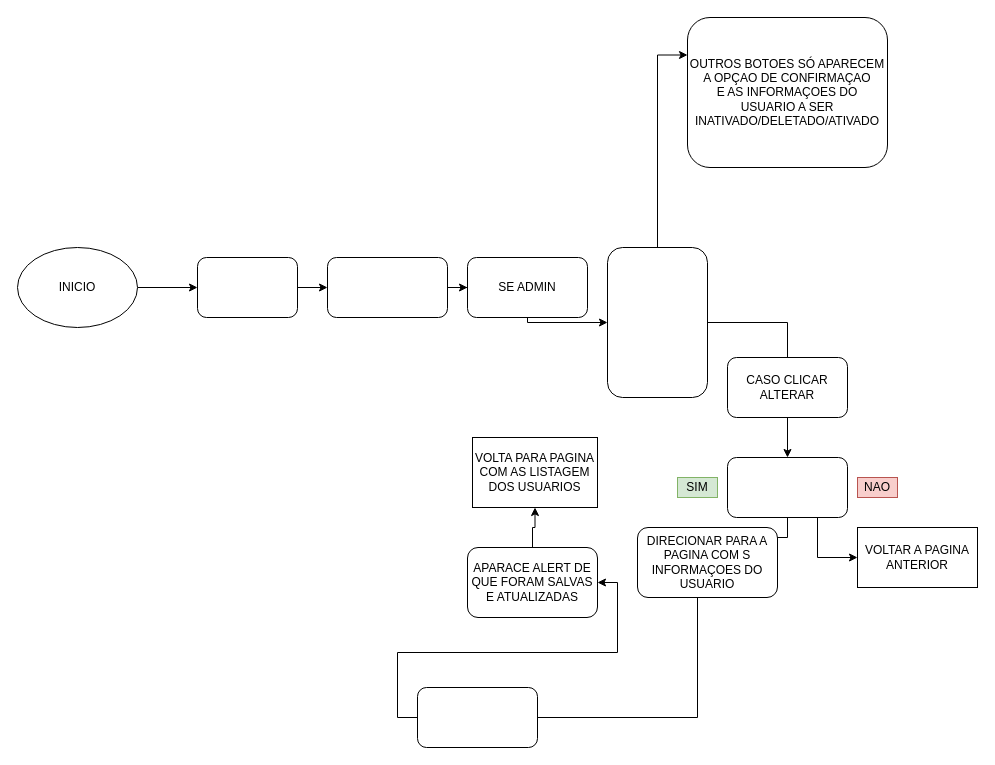
The diagram is 995 pixels wide and 765 high, and some of its shapes have lost their labels. The shapes that lost their labels are listed below. From the top down, each one's box as (x1, y1, x2, y2) in pixels, then its label:
(196, 256, 298, 318): LISTA DE USUARIOS
(326, 256, 448, 318): NOME DE USUARIO E TURMA
(606, 246, 708, 398): BOTOES DE: ATIVAR INATIVAR DELETAR ALTERAR
(726, 456, 848, 518): DESEJA REALIZAR ALGUMA ALTERAÇAO?
(416, 686, 538, 748): APOS AS ALTERAÇOES CONFIRMADAS
